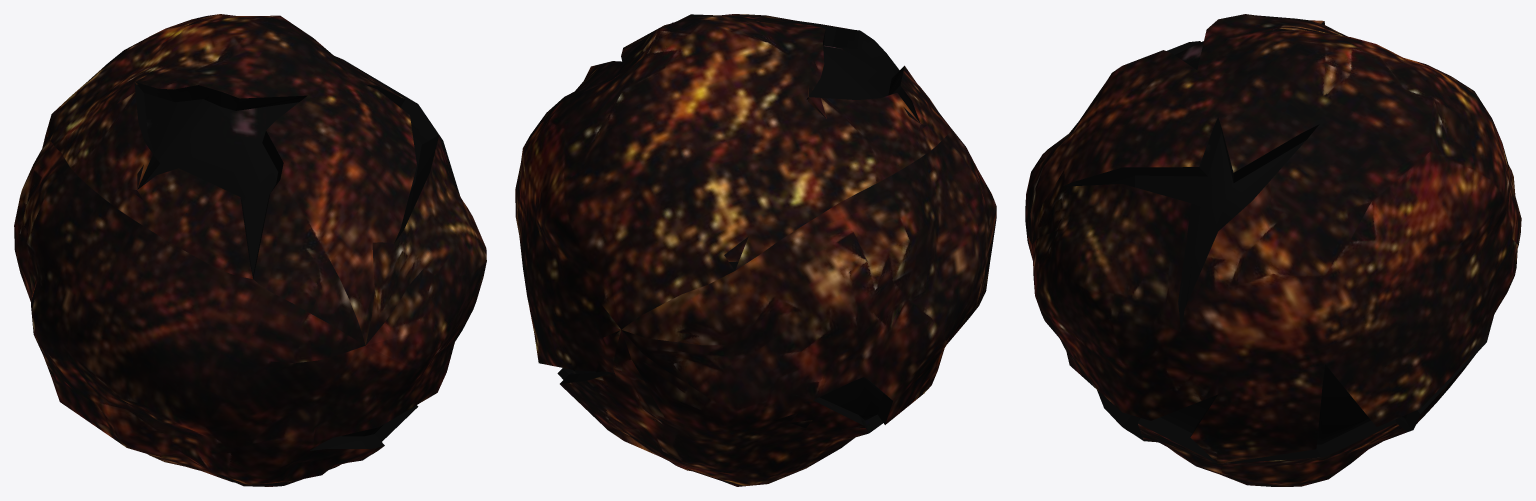
3 views of the same model, side by side, from view 1: azimuth 30°, elevation 25°; view 2: azimuth 150°, elevation 25°; view 3: azimuth 270°, elevation 25° (orthographic). The views are drawn at different scales.
Parts seen in each view (by area): view 1: mesh_0; view 2: mesh_0; view 3: mesh_0.
Boxes of the visible parts, left/top/right/bottom form: mesh_0: left=14, top=14, right=486, bottom=486; mesh_0: left=515, top=14, right=996, bottom=486; mesh_0: left=1025, top=14, right=1521, bottom=486.
Bounding box in the file's own units: 5.72 × 5.95 × 6.13.
1 material, 1 textured.
